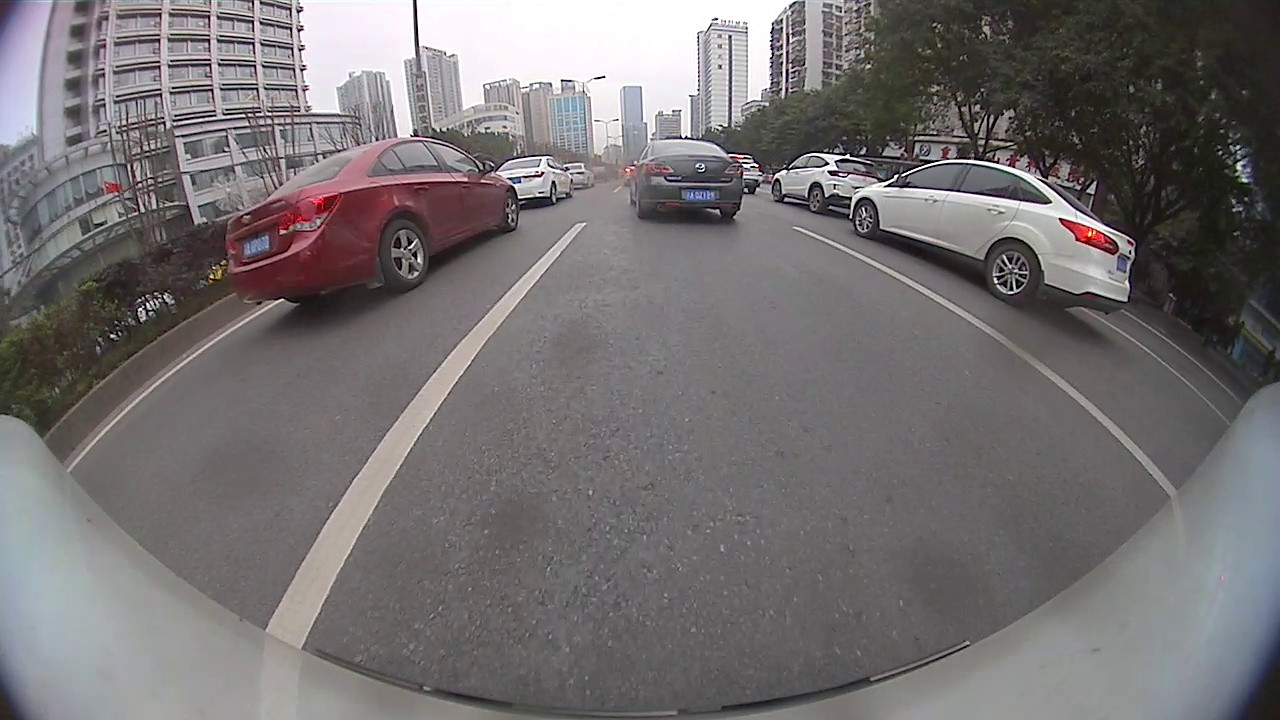car: (222, 135, 520, 304), (850, 156, 1136, 311), (633, 139, 746, 221), (772, 150, 878, 213), (496, 153, 578, 205)
front: (850, 199, 881, 239), (501, 186, 519, 232), (770, 179, 781, 203)
rear: (983, 240, 1041, 306), (378, 219, 429, 290), (807, 183, 826, 214)
